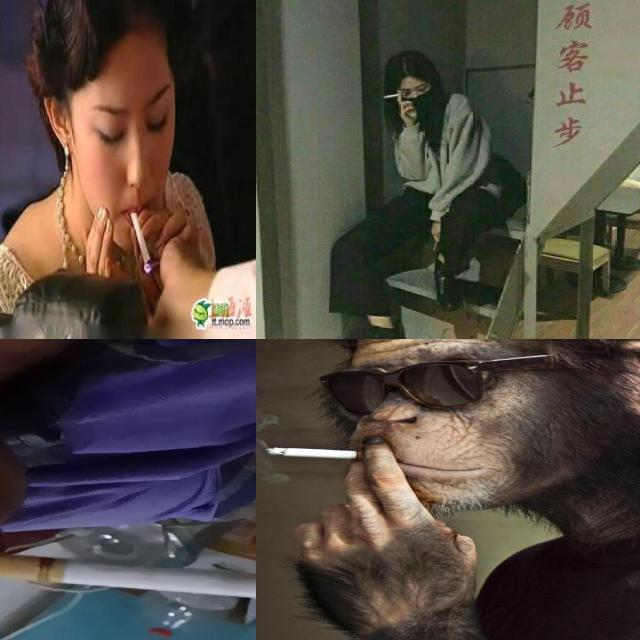smoking: (0, 552, 255, 606), (263, 444, 381, 462), (129, 209, 152, 268), (382, 90, 402, 98)
